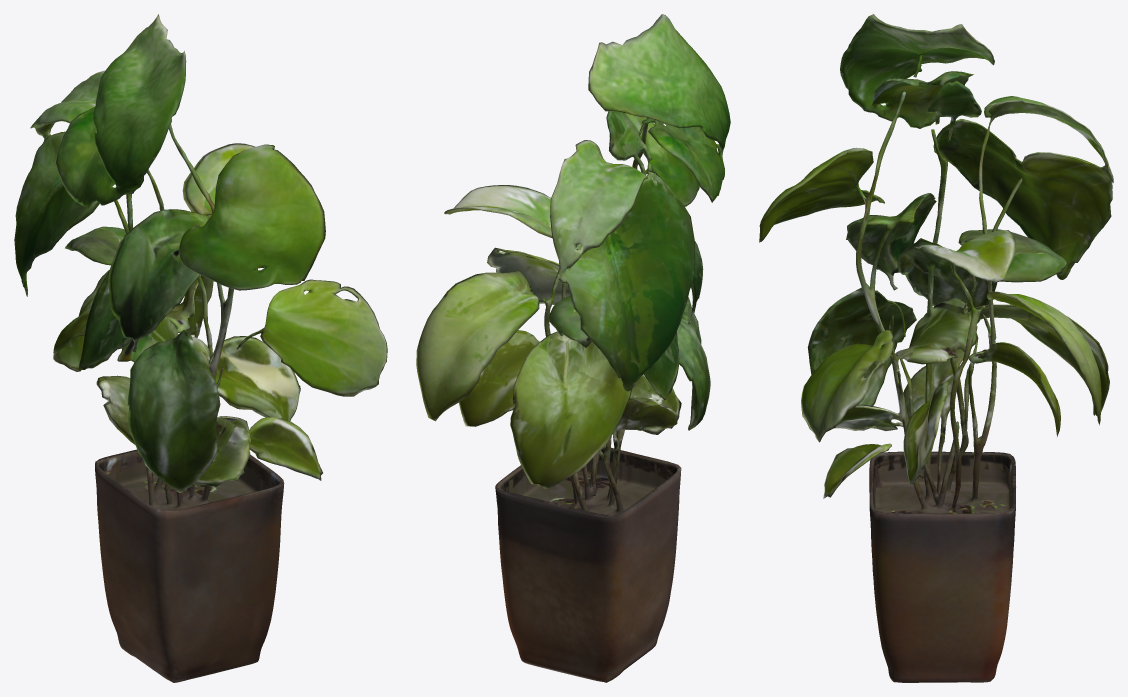
Rendered from Thippli.glb.
3 views of the same model, side by side, from view 1: azimuth 30°, elevation 25°; view 2: azimuth 150°, elevation 25°; view 3: azimuth 270°, elevation 25° (orthographic). The views are drawn at different scales.
Size of the model in its own units: 0.892 by 2 by 1.02.
1 material, 1 textured.
